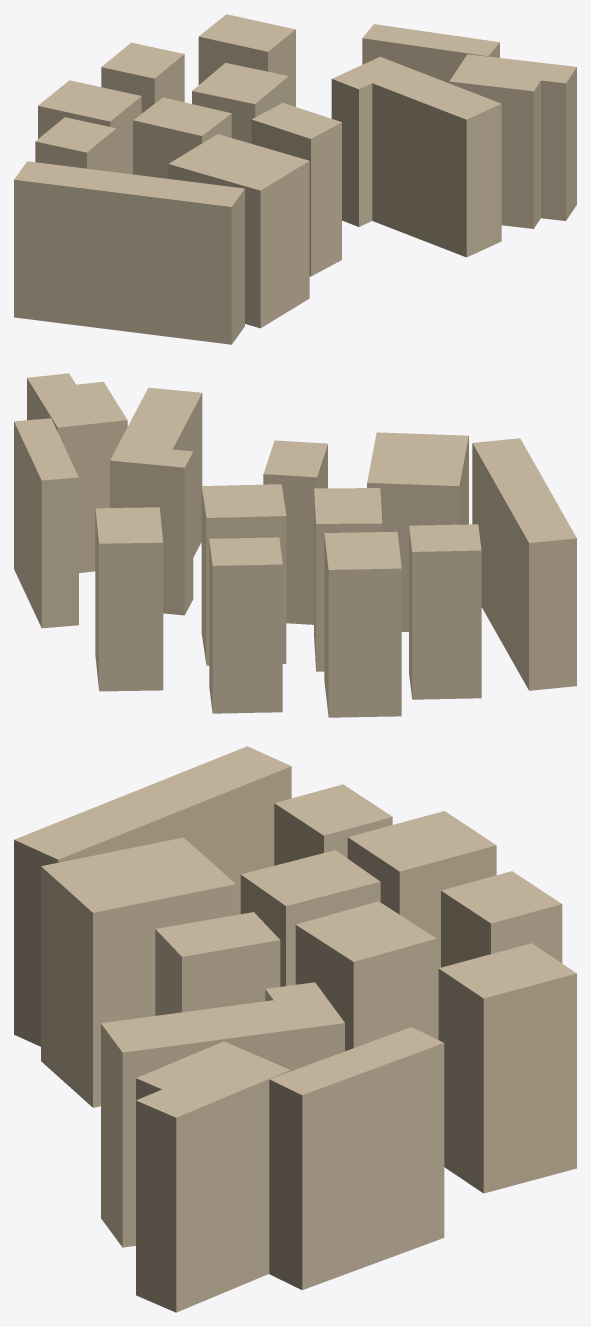
Rendered from 16_7-estimated-coarse.glb.
3 renders of one model, top to bottom at view 1: azimuth 30°, elevation 25°; view 2: azimuth 150°, elevation 25°; view 3: azimuth 270°, elevation 25°, orthographic. The views are drawn at different scales.
Size of the model in its own units: 98.08 by 24 by 62.81.
